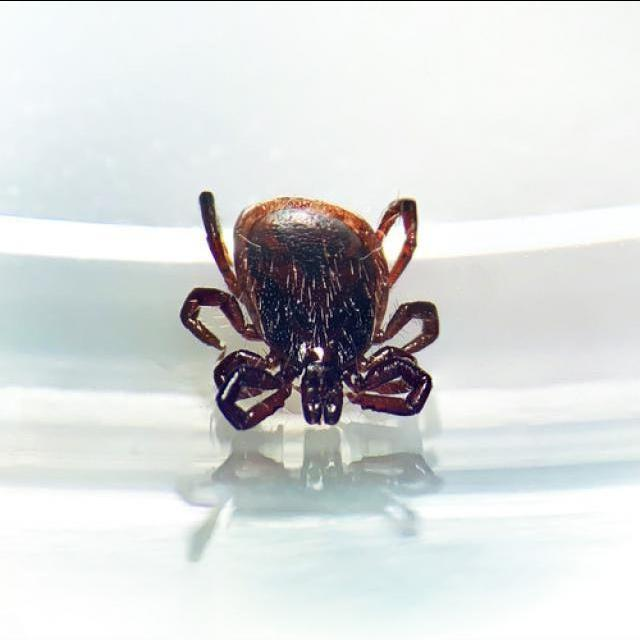Ixodes Ricinus-M: (179, 192, 439, 434)
